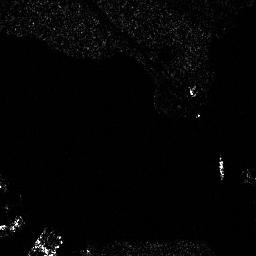ship: (218, 156, 225, 180)
